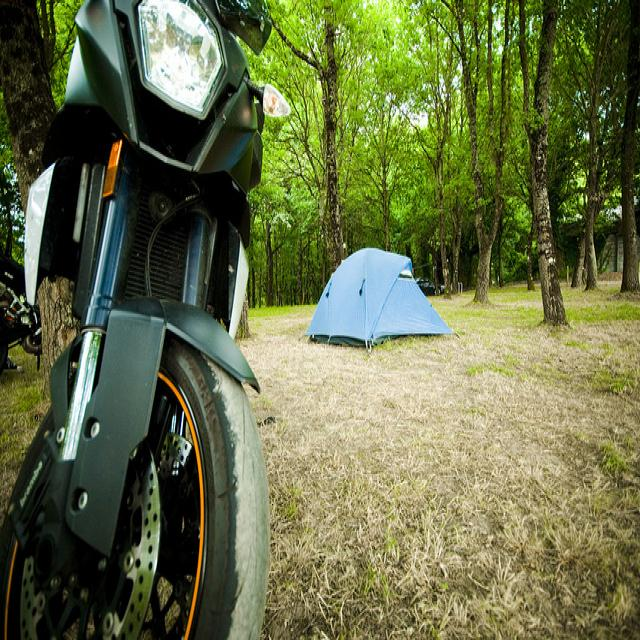motor: (0, 0, 292, 640), (0, 247, 43, 377)
